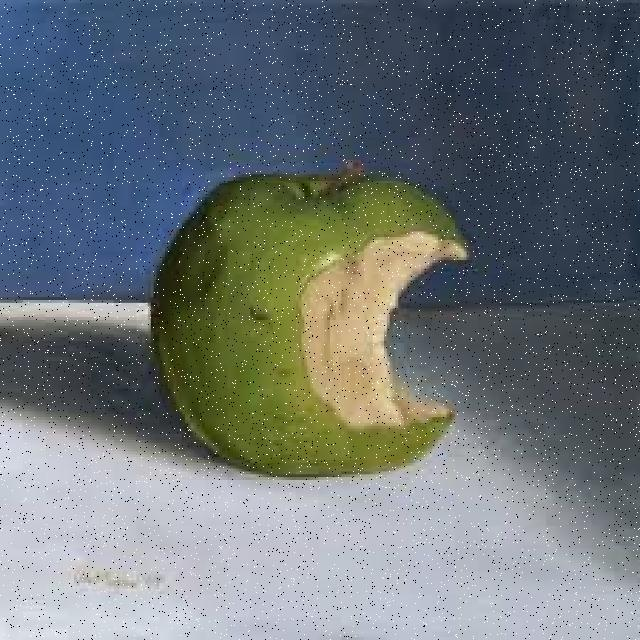Apple: (142, 165, 471, 482)
